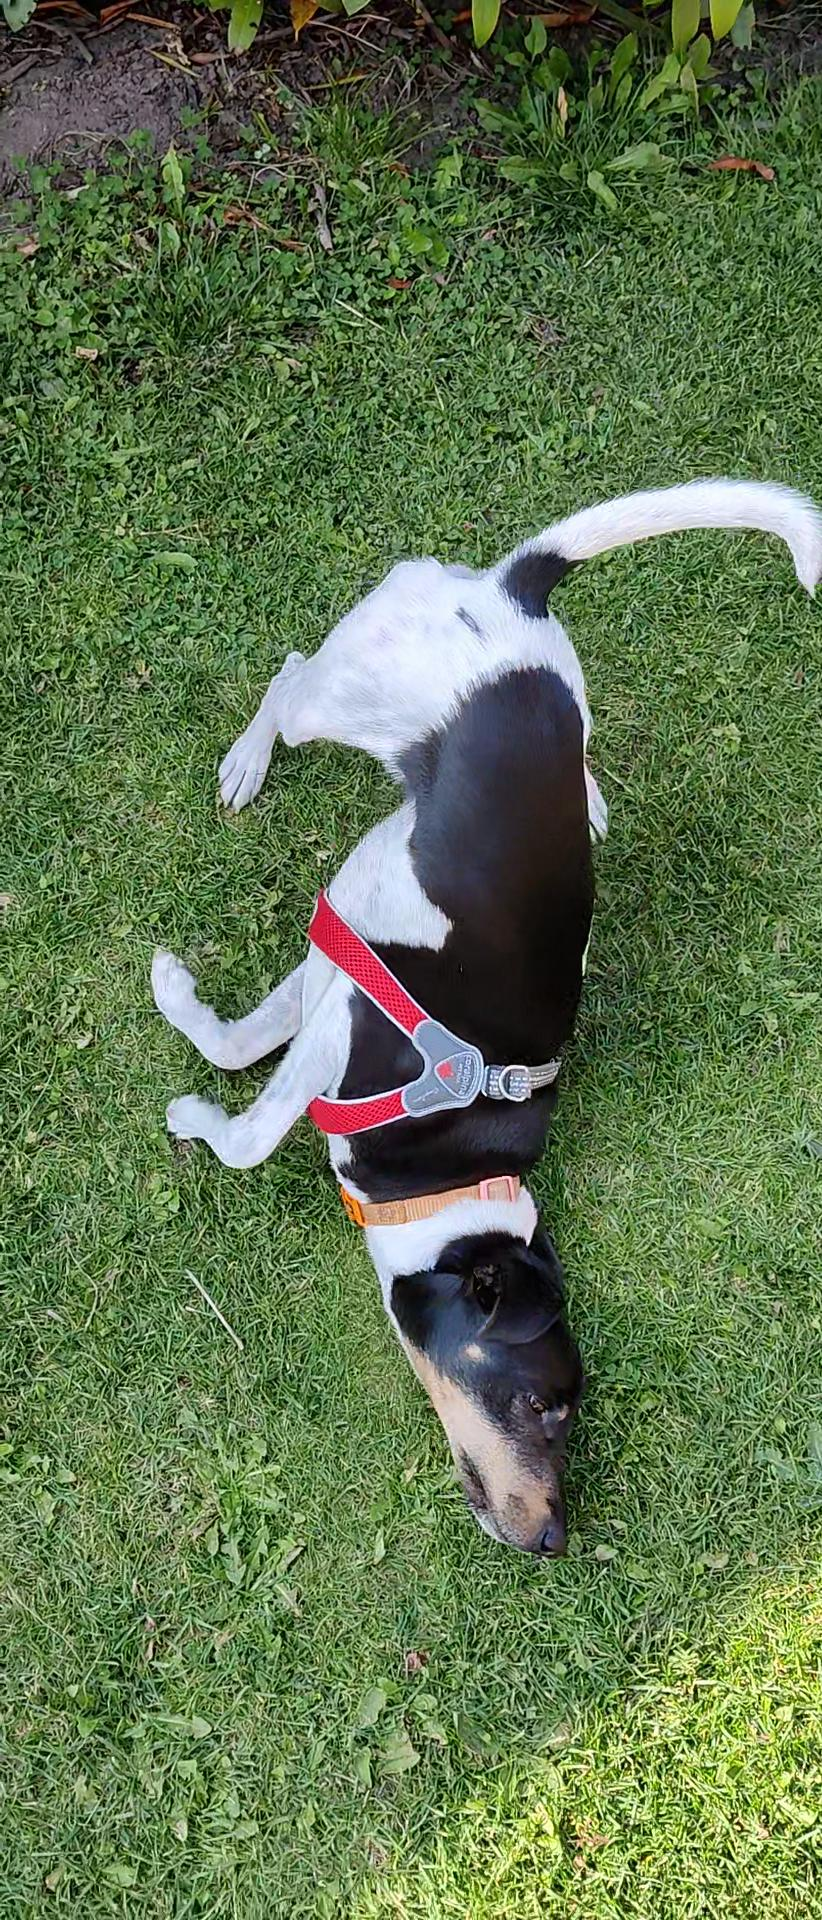Dog: (137, 457, 821, 1580)
